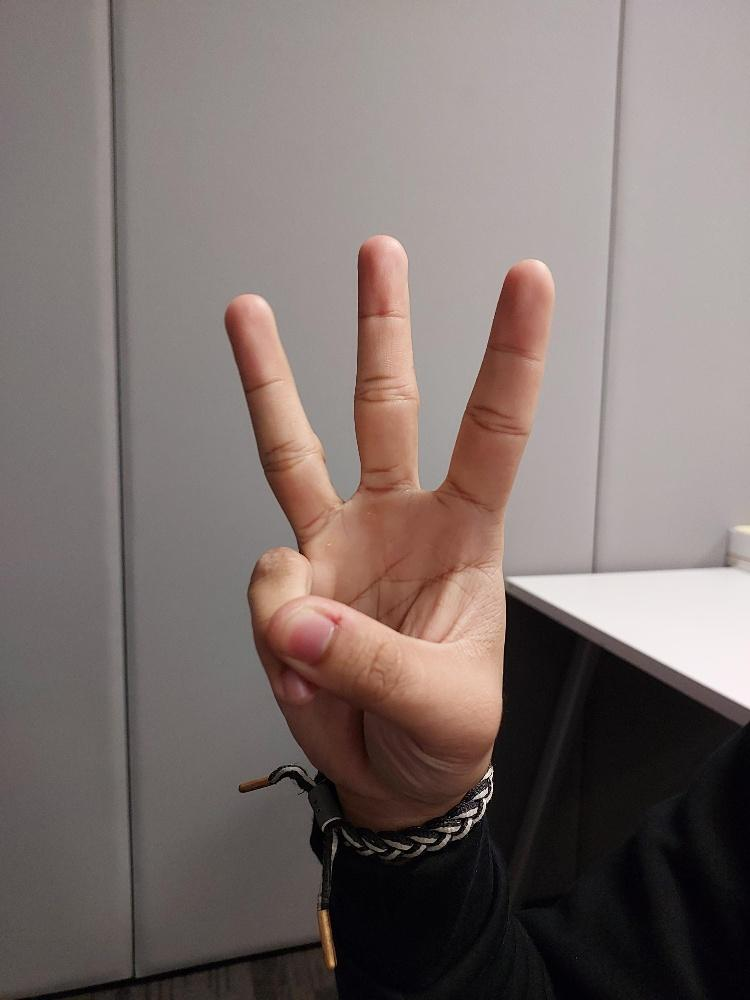w: (220, 231, 557, 800)
